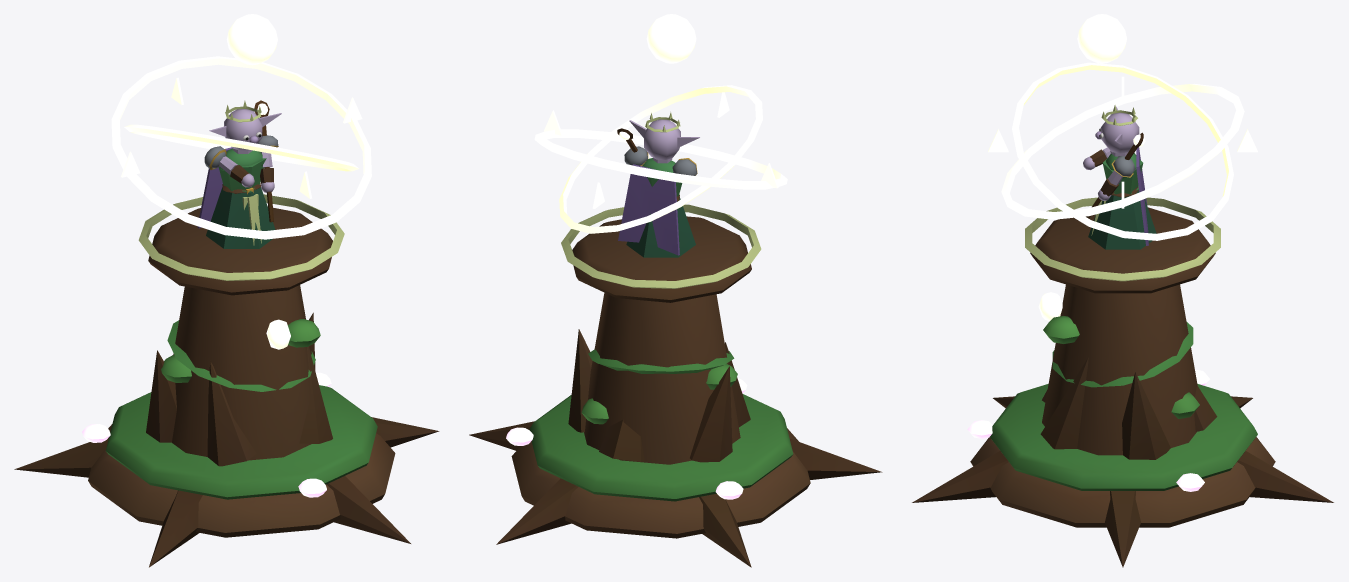
Rendered from sylvestres_9.glb.
The picture shows the model from 3 angles, left to right: view 1: azimuth 30°, elevation 25°; view 2: azimuth 150°, elevation 25°; view 3: azimuth 270°, elevation 25°; orthographic projection. The views are drawn at different scales.
Visible parts, largest first — view 1: sylvestres_9_peint, Anneaux_lueur, Buste_peint, AnneauB, OrbeMagique, Crane_peint, sylvestres_9_lueur, BrasG_peint, BrasD_peint, Lanterne; view 2: sylvestres_9_peint, Buste_peint, Anneaux_lueur, AnneauB, OrbeMagique, Crane_peint, sylvestres_9_lueur; view 3: sylvestres_9_peint, Anneaux_lueur, AnneauB, Buste_peint, OrbeMagique, Crane_peint, sylvestres_9_lueur, BrasD_peint, Lanterne.
Boxes of the visible parts, x1=… form: sylvestres_9_peint: x1=14, y1=194, x2=439, y2=567; Anneaux_lueur: x1=111, y1=56, x2=371, y2=239; Buste_peint: x1=197, y1=147, x2=275, y2=248; AnneauB: x1=124, y1=124, x2=359, y2=171; OrbeMagique: x1=226, y1=14, x2=277, y2=65; Crane_peint: x1=209, y1=100, x2=281, y2=150; sylvestres_9_lueur: x1=82, y1=372, x2=331, y2=497; BrasG_peint: x1=204, y1=146, x2=254, y2=187; BrasD_peint: x1=257, y1=135, x2=278, y2=192; Lanterne: x1=266, y1=319, x2=290, y2=349; sylvestres_9_peint: x1=469, y1=204, x2=882, y2=567; Buste_peint: x1=618, y1=158, x2=695, y2=257; Anneaux_lueur: x1=534, y1=92, x2=787, y2=208; AnneauB: x1=559, y1=85, x2=762, y2=233; OrbeMagique: x1=646, y1=14, x2=696, y2=63; Crane_peint: x1=629, y1=112, x2=699, y2=159; sylvestres_9_lueur: x1=506, y1=378, x2=747, y2=499; sylvestres_9_peint: x1=912, y1=197, x2=1333, y2=567; Anneaux_lueur: x1=988, y1=76, x2=1257, y2=219; AnneauB: x1=1012, y1=62, x2=1233, y2=240; Buste_peint: x1=1088, y1=147, x2=1156, y2=249; OrbeMagique: x1=1077, y1=14, x2=1126, y2=63; Crane_peint: x1=1095, y1=105, x2=1139, y2=153; sylvestres_9_lueur: x1=967, y1=369, x2=1209, y2=491; BrasD_peint: x1=1098, y1=156, x2=1135, y2=200; Lanterne: x1=1038, y1=292, x2=1062, y2=320.
Size of the model in its own units: 0.9693 by 1.22 by 1.02.
